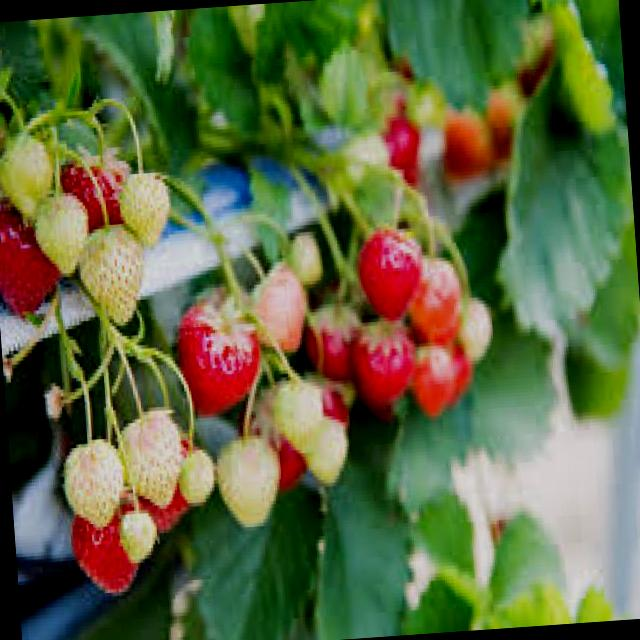Strawberry: (171, 292, 262, 404), (66, 488, 150, 596), (73, 224, 148, 328), (356, 225, 431, 325), (345, 315, 422, 409), (115, 402, 182, 508), (0, 206, 64, 314), (215, 433, 286, 527), (56, 434, 125, 522), (30, 191, 94, 275), (266, 378, 325, 457), (118, 170, 174, 242)
